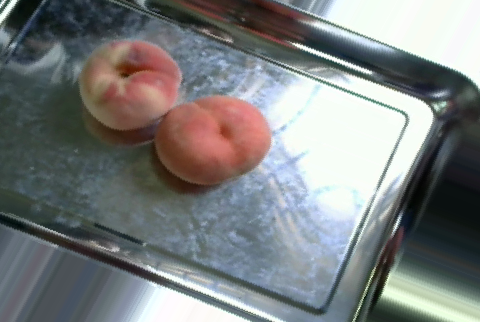Peach: (155, 94, 272, 186), (78, 38, 181, 132)
